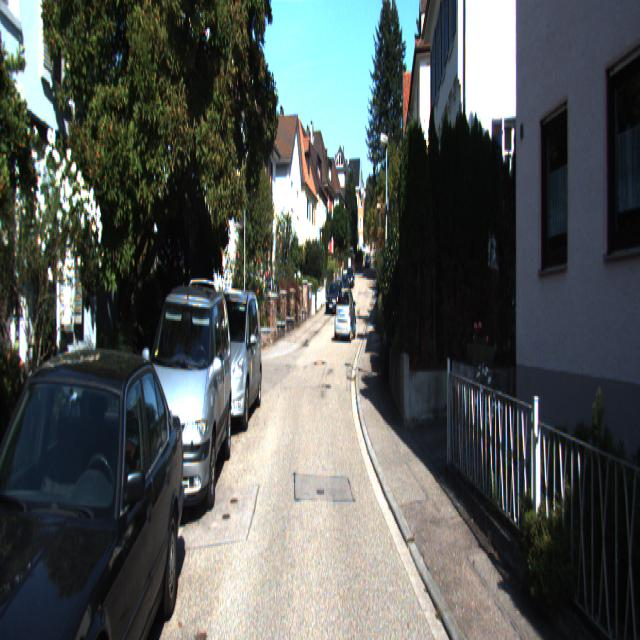Car: (0, 334, 188, 638), (134, 253, 234, 518), (196, 278, 264, 430), (334, 284, 357, 341)
